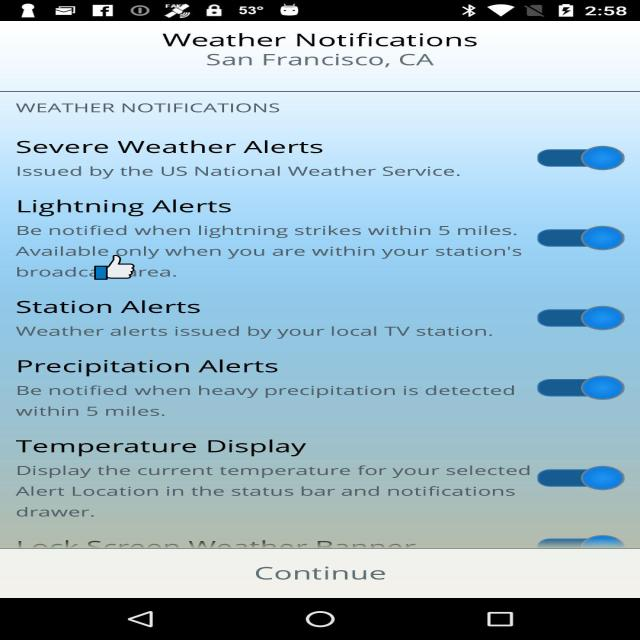privacy zuckering: (94, 254, 135, 280)
